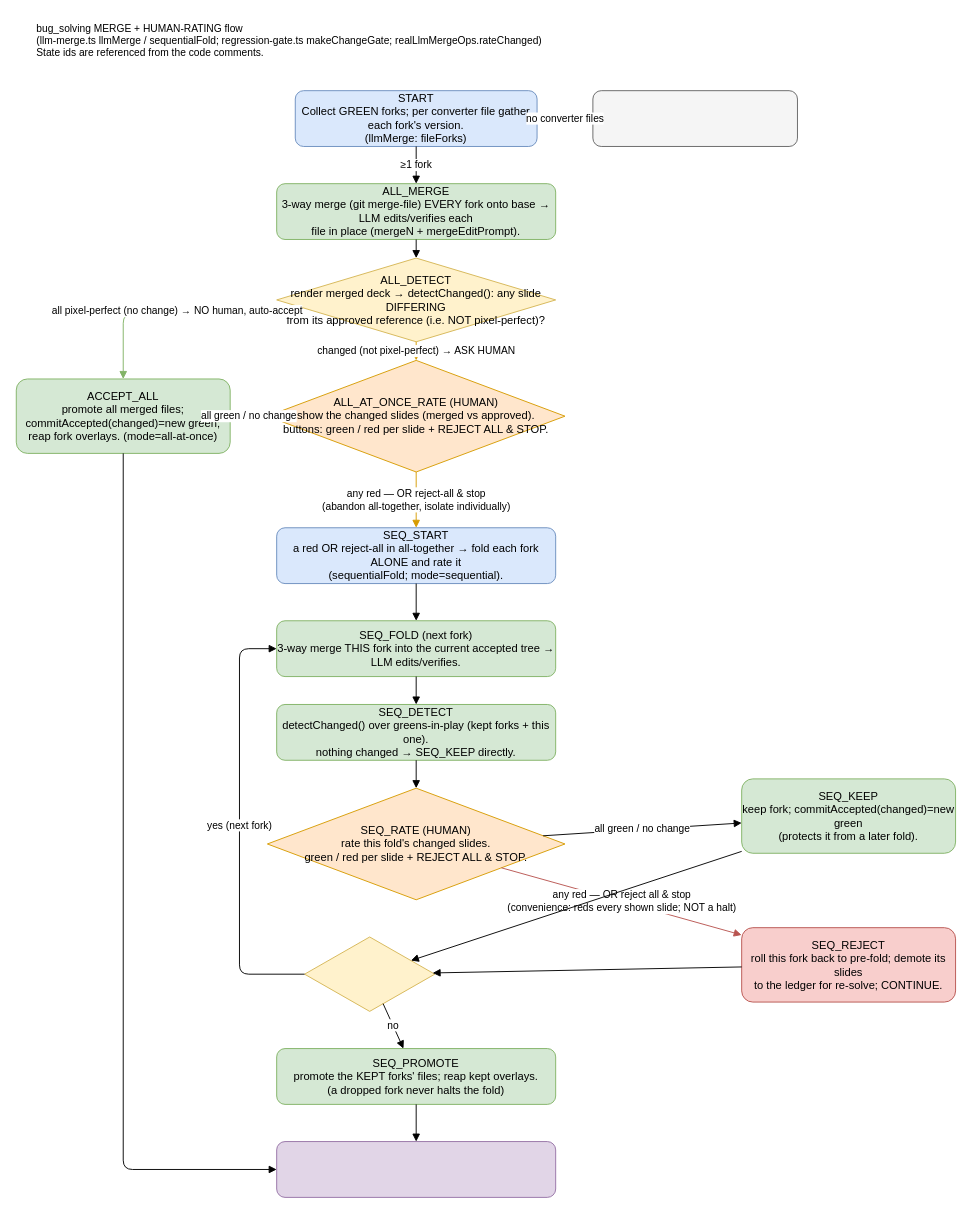
The diagram is 972 pixels wide and 1214 high, and some of its shapes have lost their labels. Here are the shapes that lost their labels. From the top down, the centre of each, then its label:
At point 694,118: "NOOP no fork touched a converter file → done (mode=noop)".
At point 369,973: "more forks?".
At point 416,1169: "DONE — return MergeReport { mode, accepted[], rejected[], mergedFiles[] }".
